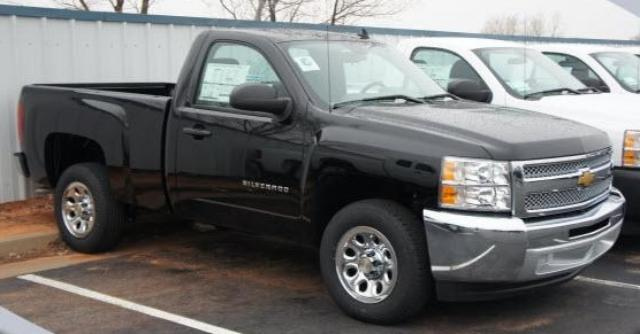pickup-truck: (14, 25, 624, 325)
